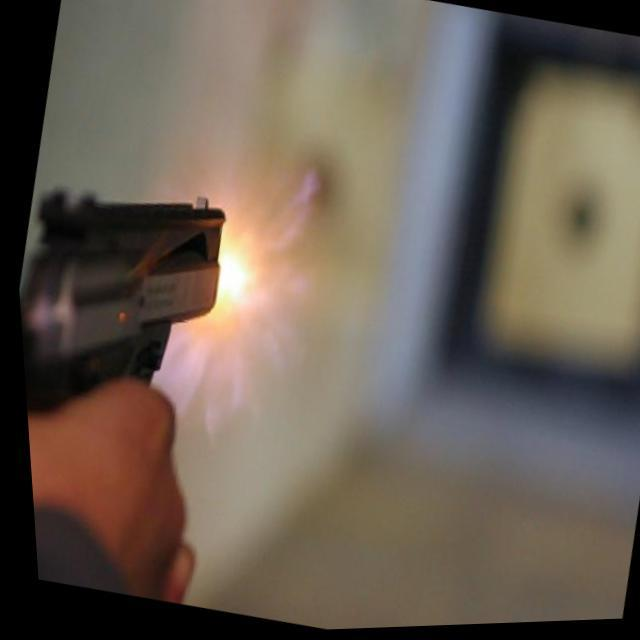weapon: (8, 159, 240, 446)
